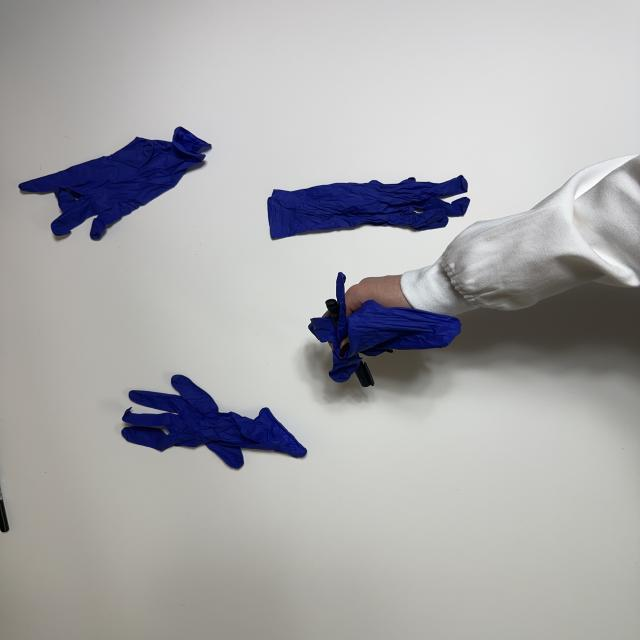glove_not_fitted: (309, 272, 461, 384)
